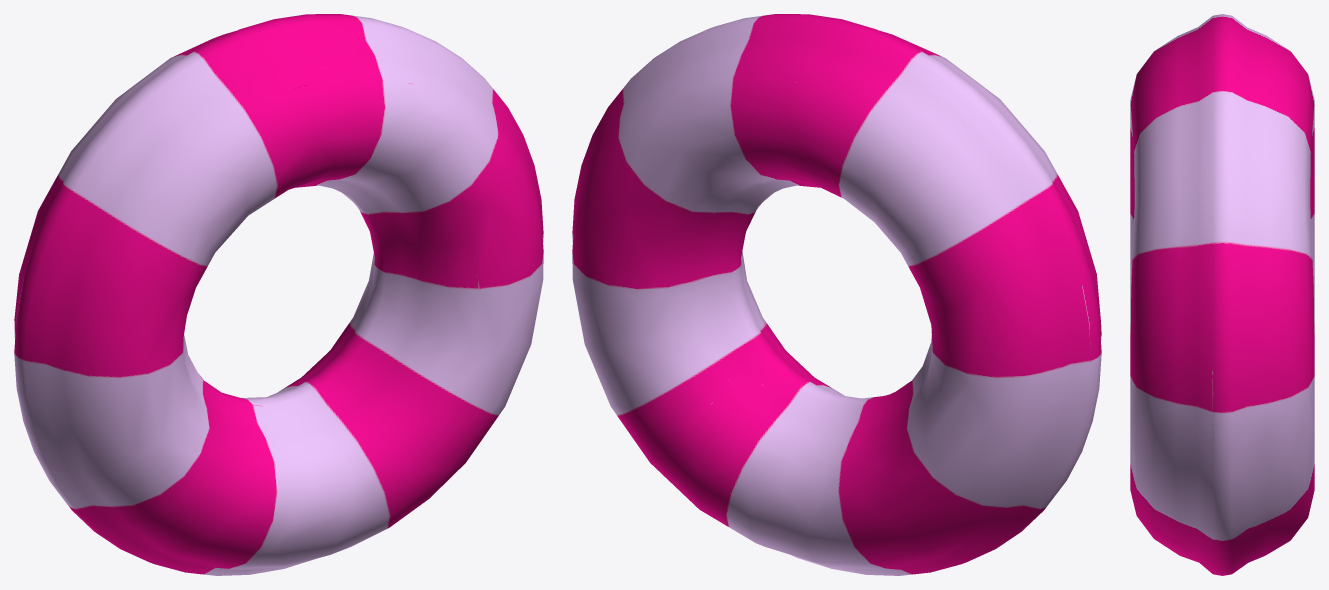
File: pink ring.fbx
3 renders of one model, left to right at view 1: azimuth 30°, elevation 25°; view 2: azimuth 150°, elevation 25°; view 3: azimuth 270°, elevation 25°, orthographic. The views are drawn at different scales.
Parts seen in each view (by area): view 1: Circle; view 2: Circle; view 3: Circle.
Part boxes in pixels (box(x1,y1,x2,y2)): Circle: box(14, 14, 543, 575); Circle: box(572, 14, 1101, 575); Circle: box(1130, 14, 1314, 575).
Bounding box in the file's own units: 370 × 369 × 121.
Materials: 1 (1 with a texture image).
